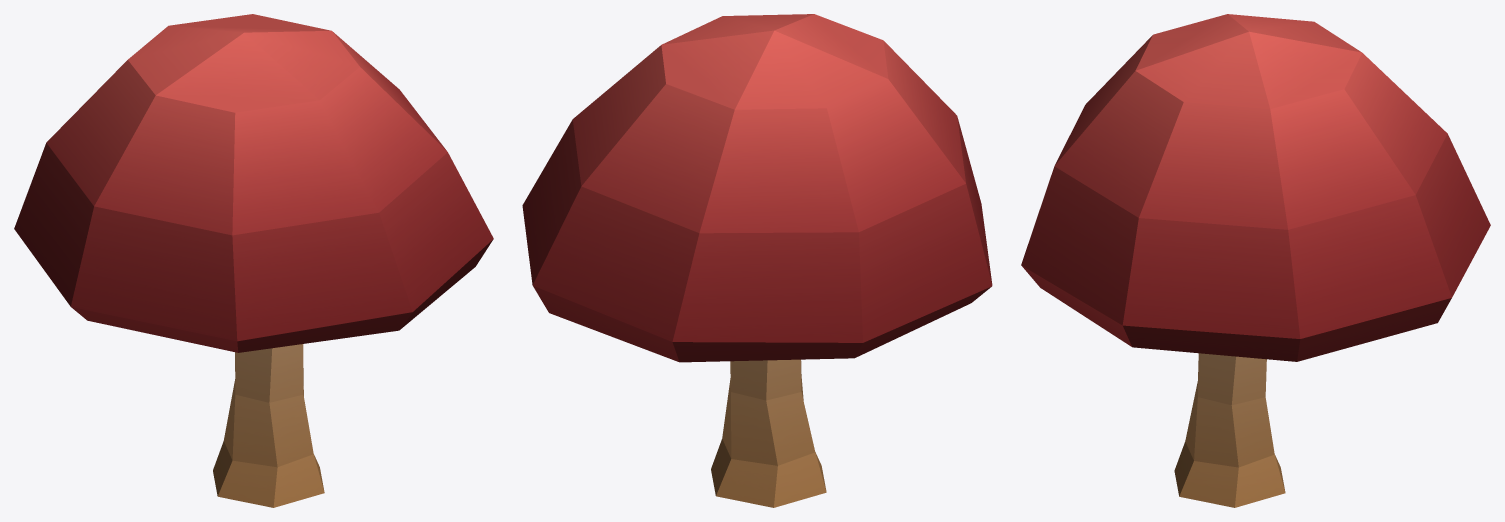
Rendered from grzyb4.fbx.
3 views of the same model, side by side, from view 1: azimuth 30°, elevation 25°; view 2: azimuth 150°, elevation 25°; view 3: azimuth 270°, elevation 25° (orthographic). The views are drawn at different scales.
Visible parts, largest first — view 1: grzyb4, Circle.006; view 2: grzyb4, Circle.006; view 3: grzyb4, Circle.006.
Boxes of the visible parts, x1=… form: grzyb4: x1=14, y1=14, x2=493, y2=352; Circle.006: x1=213, y1=344, x2=324, y2=507; grzyb4: x1=522, y1=14, x2=992, y2=362; Circle.006: x1=711, y1=359, x2=826, y2=507; grzyb4: x1=1021, y1=14, x2=1490, y2=361; Circle.006: x1=1174, y1=353, x2=1285, y2=507.
Bounding box in the file's own units: 466 × 485 × 466.
